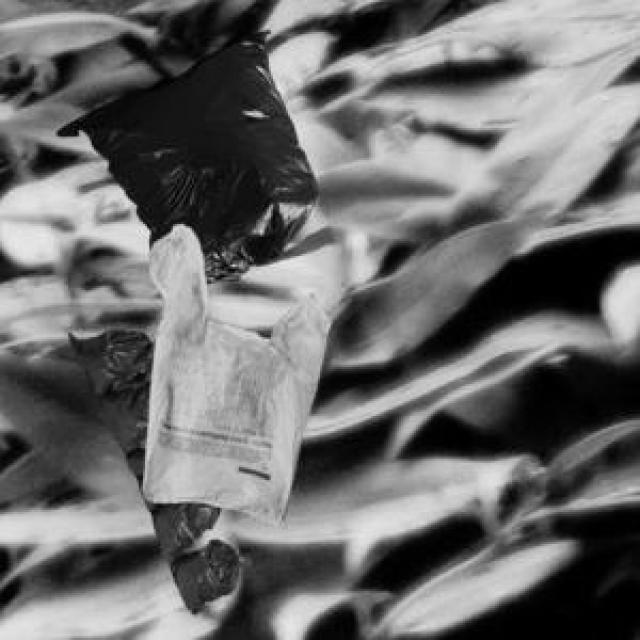miscellaneous trash: (53, 28, 335, 280), (66, 326, 235, 610)
